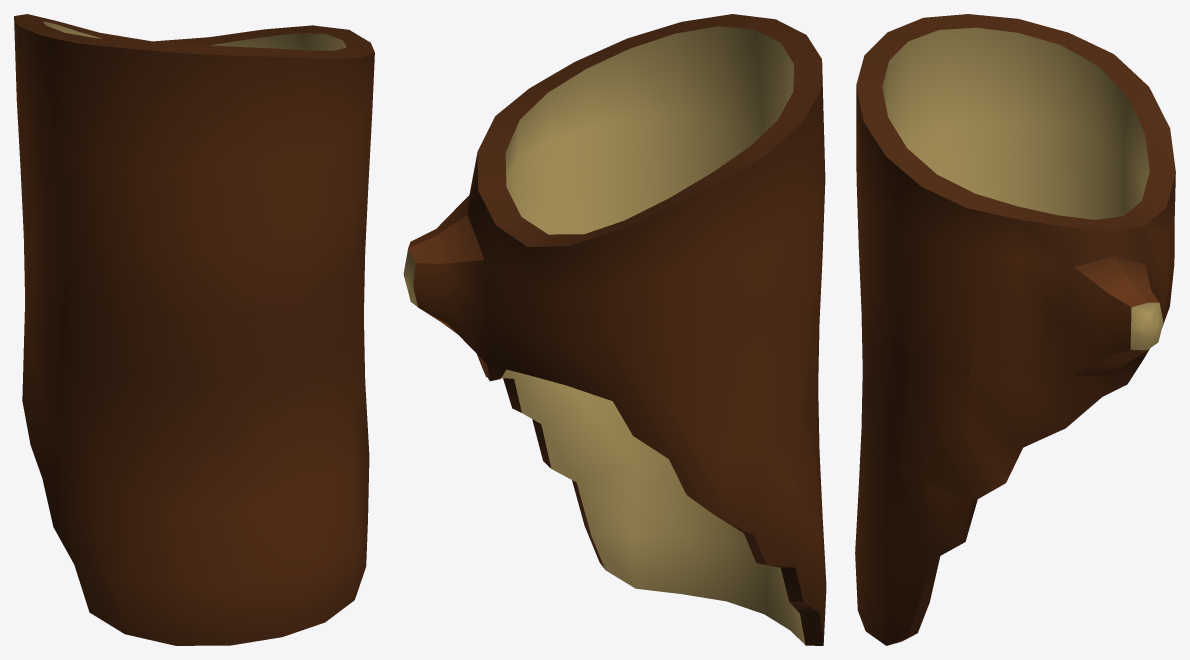
Rendered from Log2_1.4.fbx.
3 renders of one model, left to right at view 1: azimuth 30°, elevation 25°; view 2: azimuth 150°, elevation 25°; view 3: azimuth 270°, elevation 25°, orthographic. The views are drawn at different scales.
Visible parts, largest first — view 1: Log2; view 2: Log2; view 3: Log2.
Part boxes in pixels (<box>): Log2: <box>14,14,374,645</box>; Log2: <box>403,14,826,645</box>; Log2: <box>855,14,1175,645</box>.
Bounding box in the file's own units: 920 × 1557 × 838.
